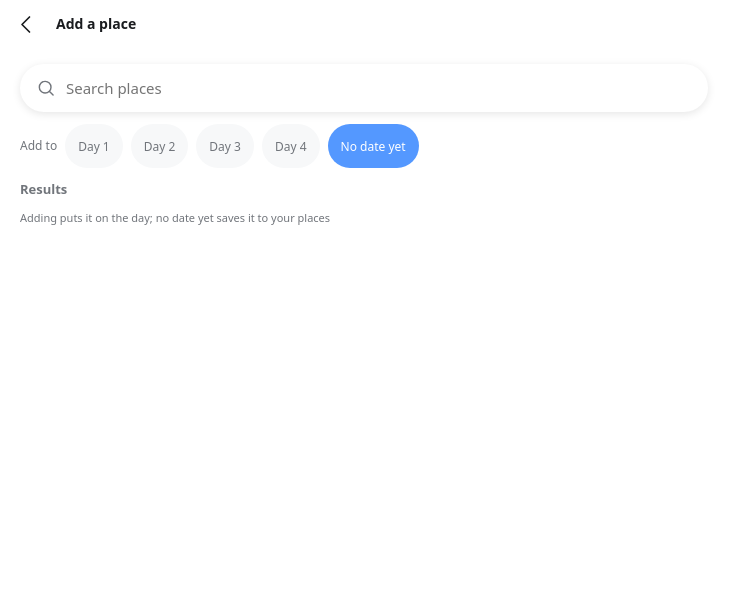
Test case: #105 FCR-029 crowd forecast cards › makes one ordered batch and keeps each result in its response position
Expected: the button "Day 4" is shown, [262,124,320,168]
Step 1. Type "서울" into the search field → (378, 88), box [64,64,692,112]
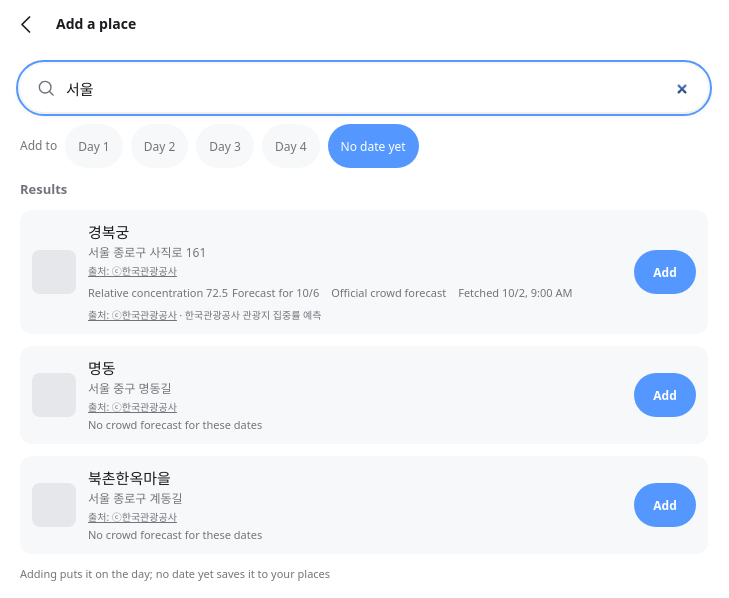
Now the list item "경복궁" is shown, box [88,222,129,242]
Now the list item "명동" is shown, box [88,358,116,378]
Now the list item "경복궁" shows "Relative concentration 72.5", box [88,285,228,300]
